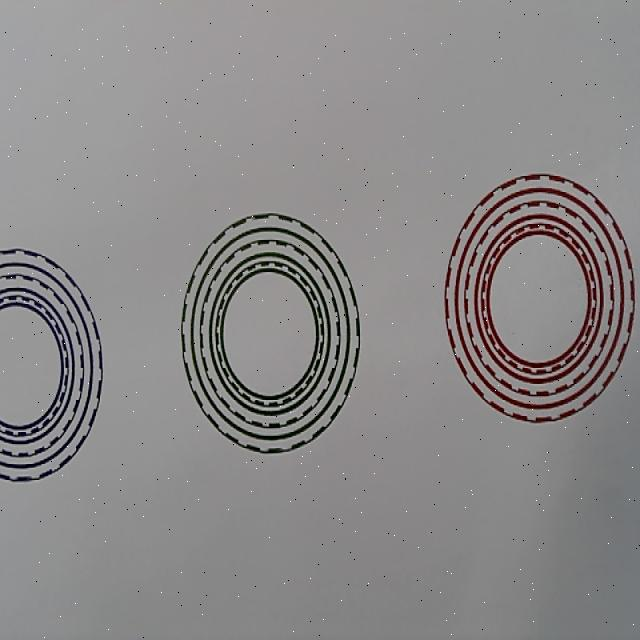g: (181, 212, 361, 454)
red-green-blue: (443, 173, 636, 423)
